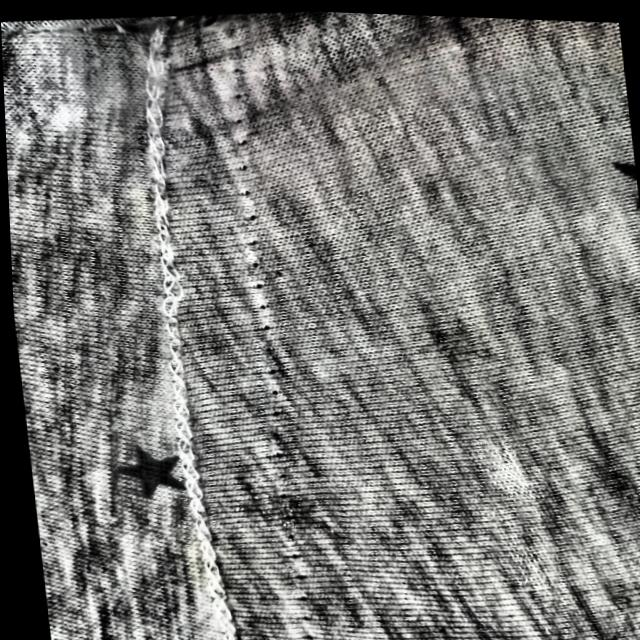Stitch: (215, 38, 317, 640), (135, 228, 210, 342)
